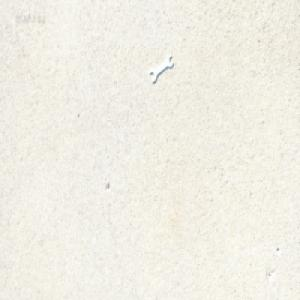Wrench: (149, 54, 173, 84)
